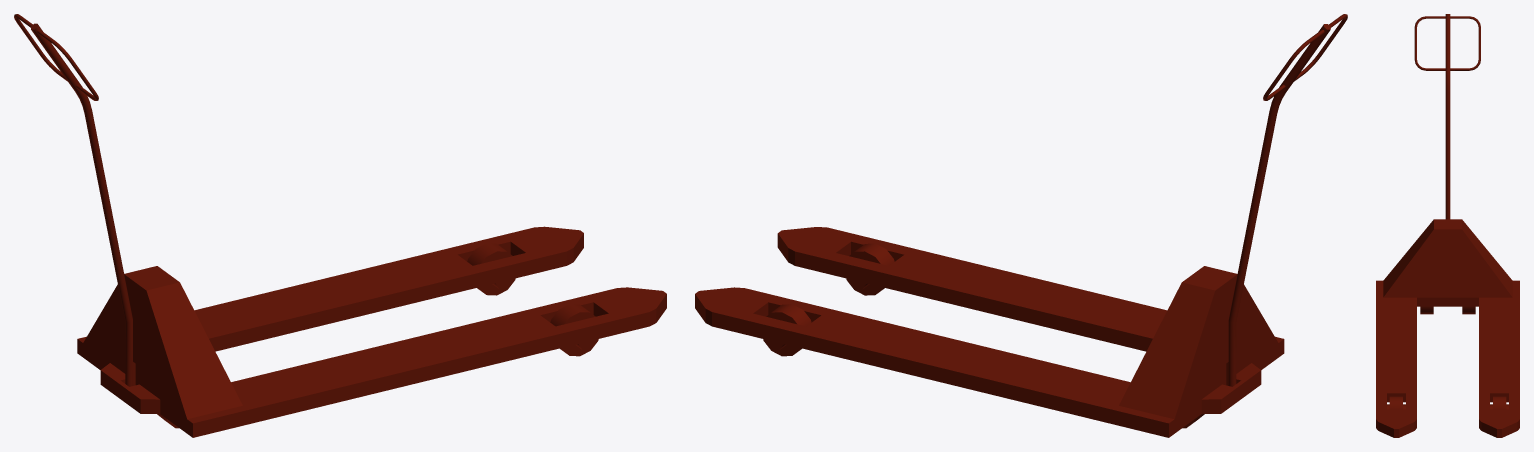
Rendered from trolley1.FBX.
3 views of the same model, side by side, from view 1: azimuth 30°, elevation 25°; view 2: azimuth 150°, elevation 25°; view 3: azimuth 270°, elevation 25° (orthographic). The views are drawn at different scales.
Parts seen in each view (by area): view 1: trolley1; view 2: trolley1; view 3: trolley1.
Boxes of the visible parts, x1,y1,x2,y2 form: trolley1: (14, 14, 666, 437); trolley1: (695, 14, 1347, 437); trolley1: (1376, 14, 1519, 437).
Size of the model in its own units: 134 by 90.5 by 45.21.
